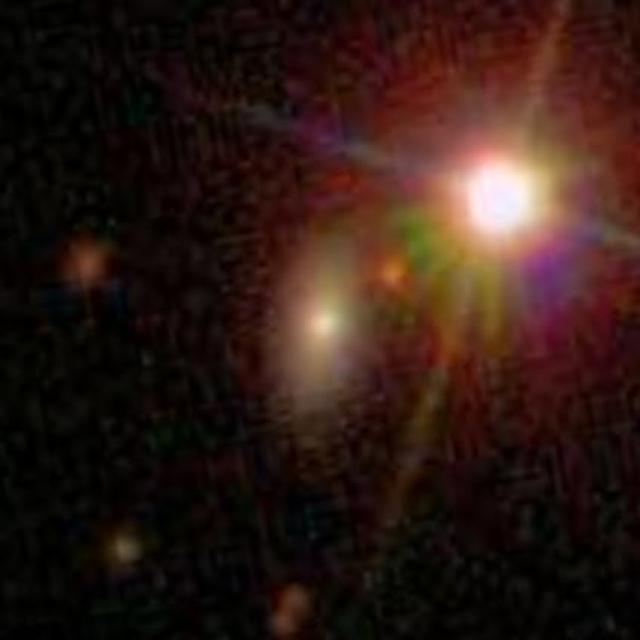galaxy: (266, 226, 376, 434), (51, 225, 120, 301), (260, 579, 321, 640), (101, 531, 147, 570)
star: (158, 1, 640, 581)
